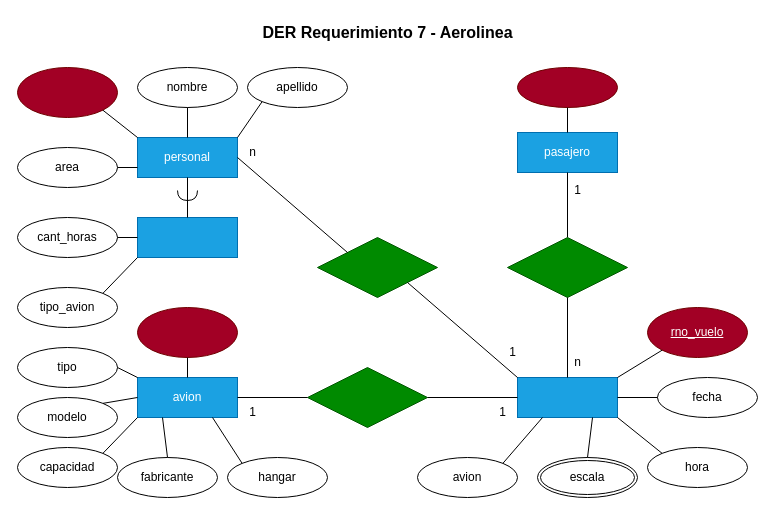
The diagram is 775 pixels wide and 515 high, and some of its shapes have lost their labels. Each missing label, with the centre of its shape:
compra: [567,267]
es asignado: [377,267]
id_personal: [67,92]
nro_avion: [187,332]
pasaporte: [567,87]
piloto: [187,237]
tiene: [367,397]
vuelo: [567,397]
